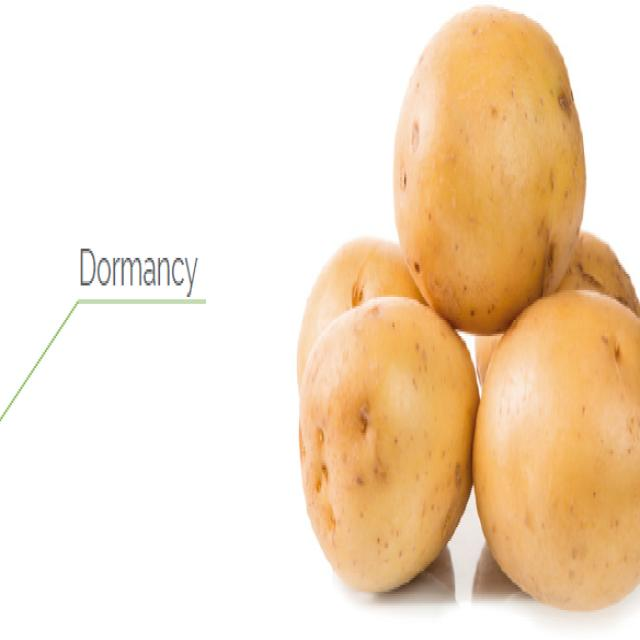potato: (473, 292, 640, 604)
